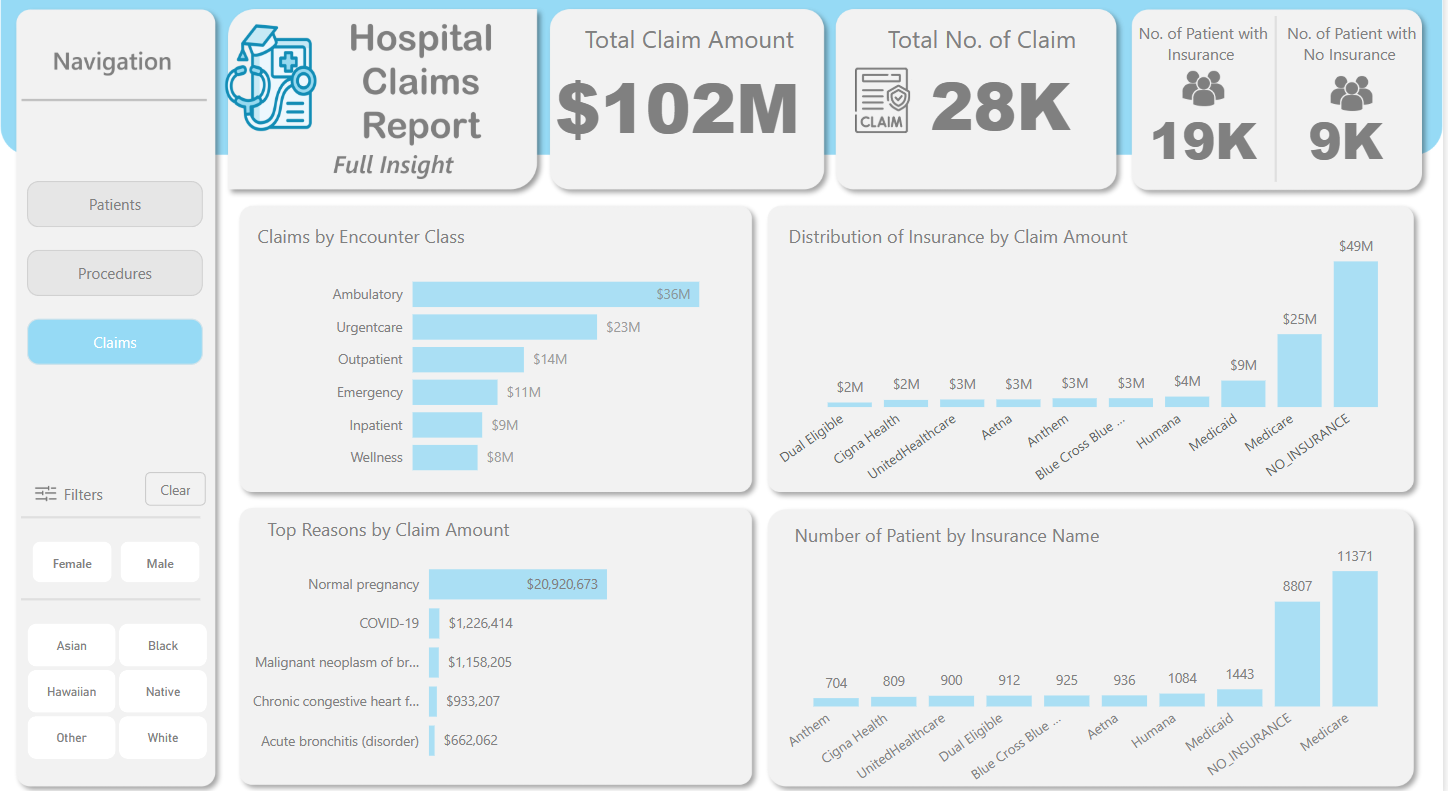

The page's visual inventory and layout, read from the dashboard file:
{"tool":"powerbi","page":{"name":"Claims","canvas":[1280,720],"ordinal":2},"visuals":[{"type":"columnChart","fields":{"Category":["Payers.NAME"],"Y":["Measures (2).Total Claims"]},"box":[680.9,211.4,567.2,244.3],"z":0},{"type":"card","fields":{"Values":["Measures (2).Total Claims"]},"box":[472,45,258,122],"z":1000},{"type":"columnChart","fields":{"Category":["Payers.NAME"],"Y":["Measures (2).Patient Count"]},"box":[690,480.9,558.2,239.1],"z":2000},{"type":"barChart","fields":{"Category":["Encounters.REASONDESCRIPTION"],"Y":["Measures (2).Top ProcedureClaims"]},"box":[206.1,491.8,409,212.4],"z":3000},{"type":"barChart","fields":{"Category":["Encounters.ENCOUNTERCLASS"],"Y":["Measures (2).Total Claims"]},"box":[282.7,239.1,379.1,209.1],"z":4000},{"type":"pageNavigator","box":[23.6,174.5,156.4,164.5],"z":5000},{"type":"shape","box":[19,466,159,13],"z":6000},{"type":"image","box":[24,436,32,31],"z":7000},{"type":"textbox","box":[51.8,439.1,63.6,28.2],"z":8000},{"type":"advancedSlicerVisual","fields":{"Values":["Patient.GENDER"]},"box":[24.2,489.8,159.2,46.4],"z":9000},{"type":"advancedSlicerVisual","fields":{"Values":["Patient.RACE"]},"box":[19.1,562.4,170.3,132],"z":10000},{"type":"shape","box":[19,539,159,13],"z":11000},{"type":"actionButton","title":"Clear Filter","box":[129,433,54,30],"z":12000},{"type":"textbox","box":[490,28.2,241.8,51.8],"z":13000},{"type":"textbox","box":[219.1,207.3,333.6,50],"z":14000},{"type":"textbox","box":[228.2,467.3,333.6,50],"z":15000},{"type":"textbox","box":[695.5,472.7,333.6,50],"z":16000},{"type":"textbox","box":[690,207.3,333.6,50],"z":17000},{"type":"card","fields":{"Values":["Measures (2).Claims Count"]},"box":[795,50,183,111],"z":18000},{"type":"textbox","box":[752.7,28.2,241.8,51.8],"z":19000},{"type":"card","fields":{"Values":["Measures (2).Count W/Insurance"]},"box":[997,93,140,89],"z":20000},{"type":"card","fields":{"Values":["Measures (2).Count NoInsurance"]},"box":[1149,93,88,88],"z":21000},{"type":"shape","box":[1121.3,28,19.3,146.7],"z":22000},{"type":"image","box":[1028.7,69.3,77.3,46.7],"z":23000},{"type":"image","box":[1159,74,78,47],"z":24000},{"type":"textbox","box":[985.3,28,163.3,52],"z":25000},{"type":"textbox","box":[1131,28,134,52],"z":26000},{"type":"image","box":[746.2,69.3,72,68.3],"z":27000}]}

Visuals, with their boxes in screenshot pixels (x1, y1, x2, y2), scaled from the page's 1280x720 canvas onto the 1448x791 screenshot:
columnChart - Payers.NAME x Measures (2).Total Claims: left=770, top=232, right=1412, bottom=501
card - Measures (2).Total Claims: left=534, top=49, right=826, bottom=183
columnChart - Payers.NAME x Measures (2).Patient Count: left=781, top=528, right=1412, bottom=790
barChart - Encounters.REASONDESCRIPTION x Measures (2).Top ProcedureClaims: left=233, top=540, right=696, bottom=774
barChart - Encounters.ENCOUNTERCLASS x Measures (2).Total Claims: left=320, top=263, right=749, bottom=492
pageNavigator: left=27, top=192, right=204, bottom=372
shape: left=21, top=512, right=201, bottom=526
image: left=27, top=479, right=63, bottom=513
textbox: left=59, top=482, right=131, bottom=513
advancedSlicerVisual - Patient.GENDER: left=27, top=538, right=207, bottom=589
advancedSlicerVisual - Patient.RACE: left=22, top=618, right=214, bottom=763
shape: left=21, top=592, right=201, bottom=606
"Clear Filter" actionButton: left=146, top=476, right=207, bottom=509
textbox: left=554, top=31, right=828, bottom=88
textbox: left=248, top=228, right=625, bottom=283
textbox: left=258, top=513, right=636, bottom=568
textbox: left=787, top=519, right=1164, bottom=574
textbox: left=781, top=228, right=1158, bottom=283
card - Measures (2).Claims Count: left=899, top=55, right=1106, bottom=177
textbox: left=851, top=31, right=1125, bottom=88
card - Measures (2).Count W/Insurance: left=1128, top=102, right=1286, bottom=200
card - Measures (2).Count NoInsurance: left=1300, top=102, right=1399, bottom=199
shape: left=1268, top=31, right=1290, bottom=192
image: left=1164, top=76, right=1251, bottom=127
image: left=1311, top=81, right=1399, bottom=133
textbox: left=1115, top=31, right=1299, bottom=88
textbox: left=1279, top=31, right=1431, bottom=88
image: left=844, top=76, right=926, bottom=151
